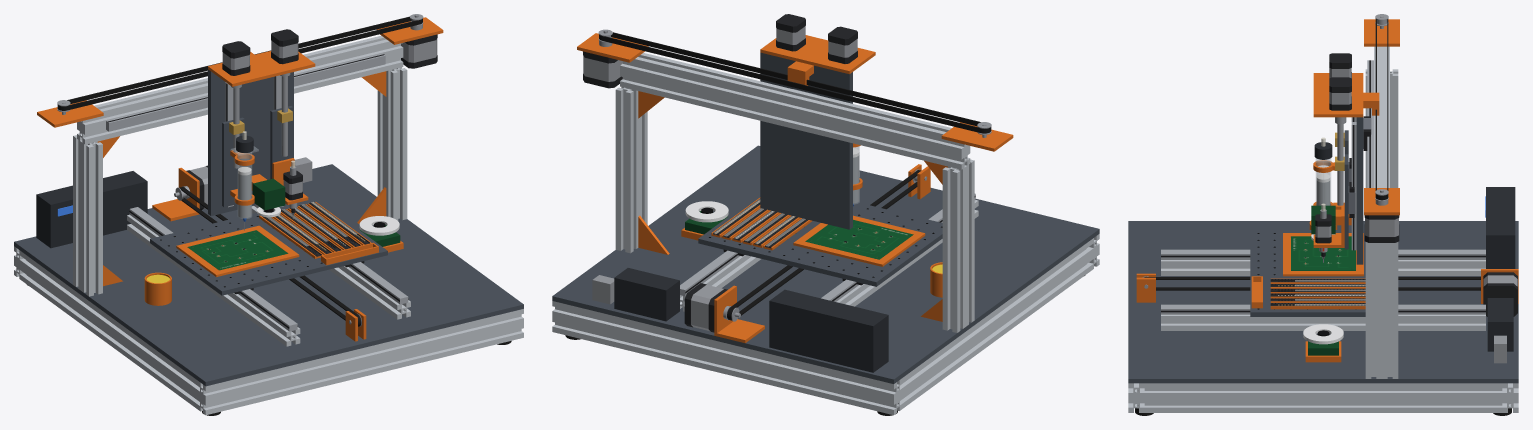
File: pnp_200.glb
The picture shows the model from 3 angles, left to right: view 1: azimuth 30°, elevation 25°; view 2: azimuth 150°, elevation 25°; view 3: azimuth 270°, elevation 25°; orthographic projection. The views are drawn at different scales.
Size of the model in its own units: 562 by 366 by 480.
33 materials, 1 textured.
